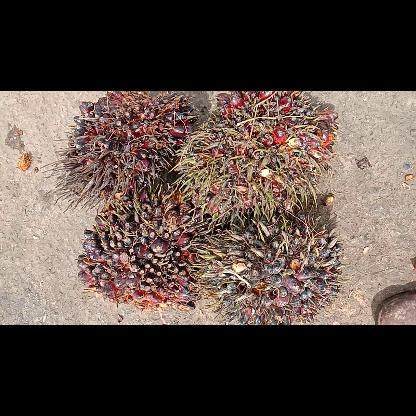TBS abnormal: (173, 94, 333, 216), (198, 216, 344, 324), (54, 95, 192, 202), (76, 202, 200, 310)
